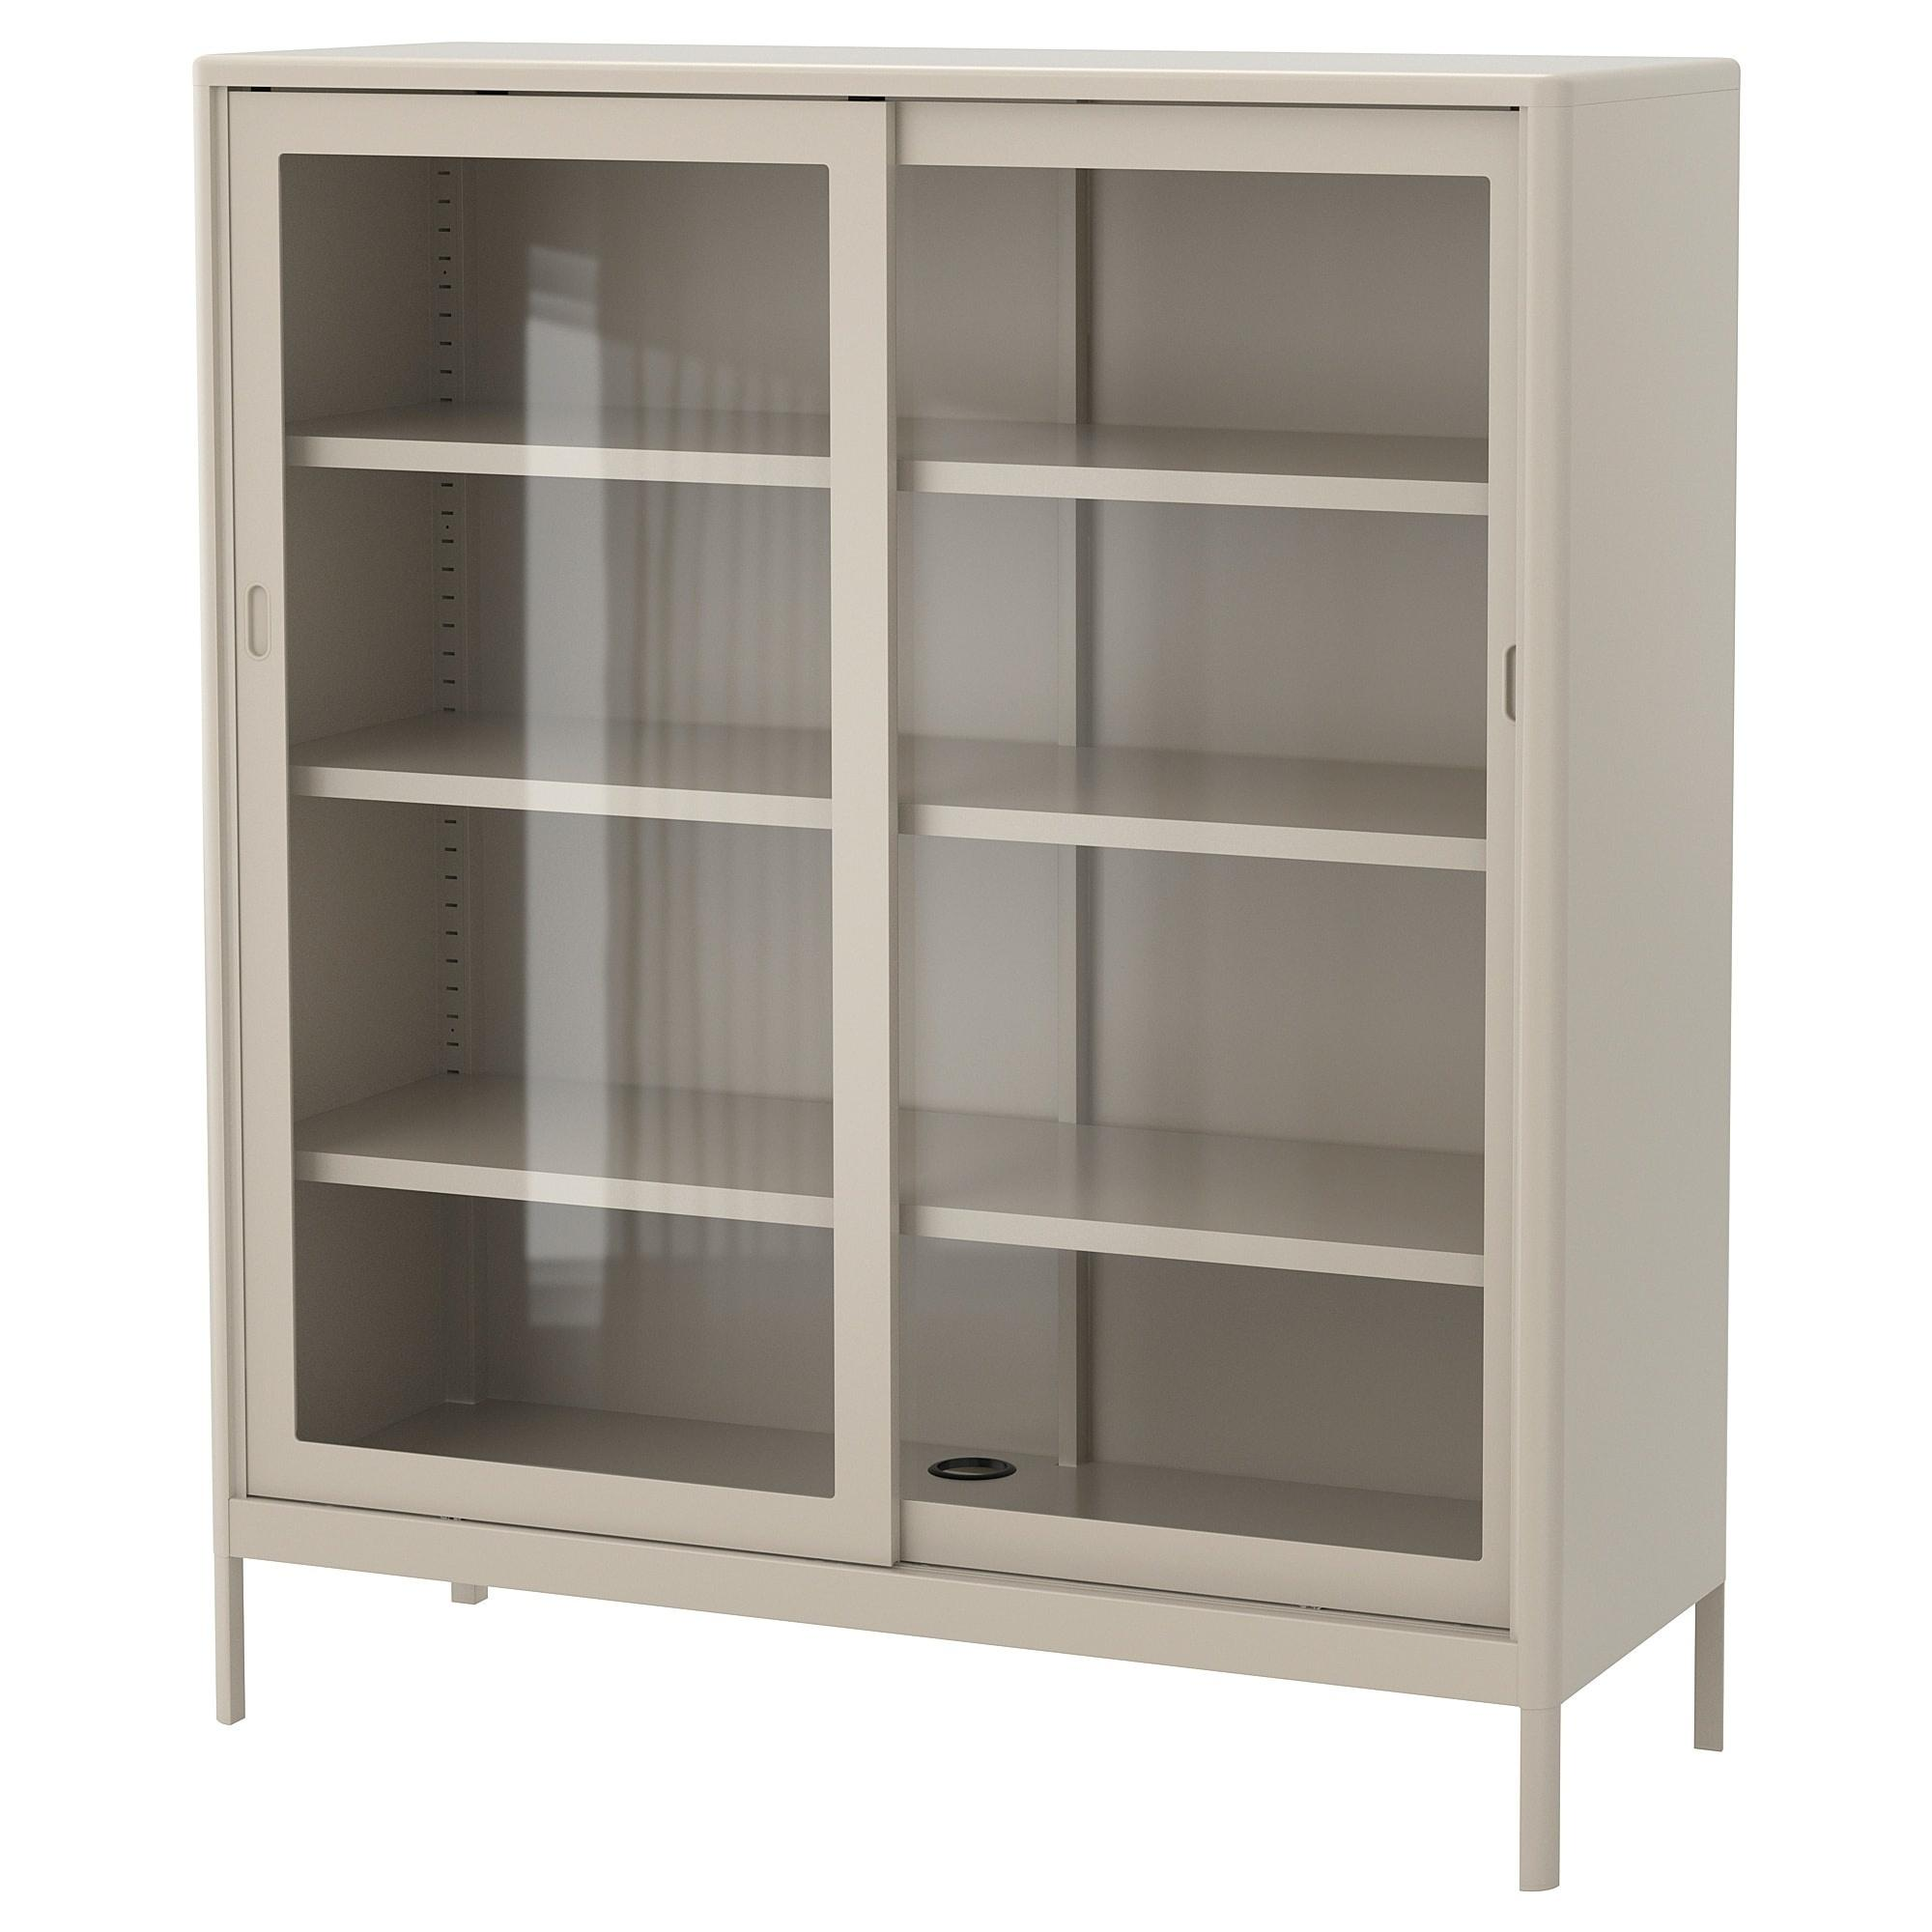cabinet_door: (237, 92, 844, 1507)
handle: (242, 570, 276, 667), (1497, 632, 1520, 750)
